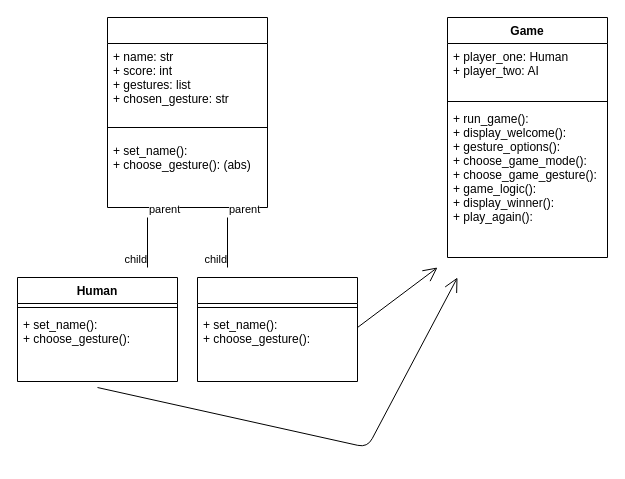
The diagram is 625 pixels wide and 479 high, and some of its shapes have lost their labels. Here are the shapes that lost their labels. From the top down, the box of each, then its label:
(106, 16, 268, 208): Player
(196, 276, 358, 382): AI
